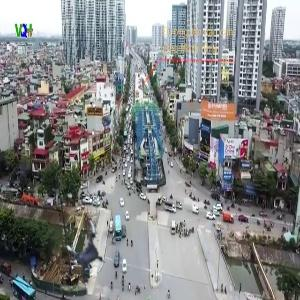drone: (57, 221, 117, 281)
